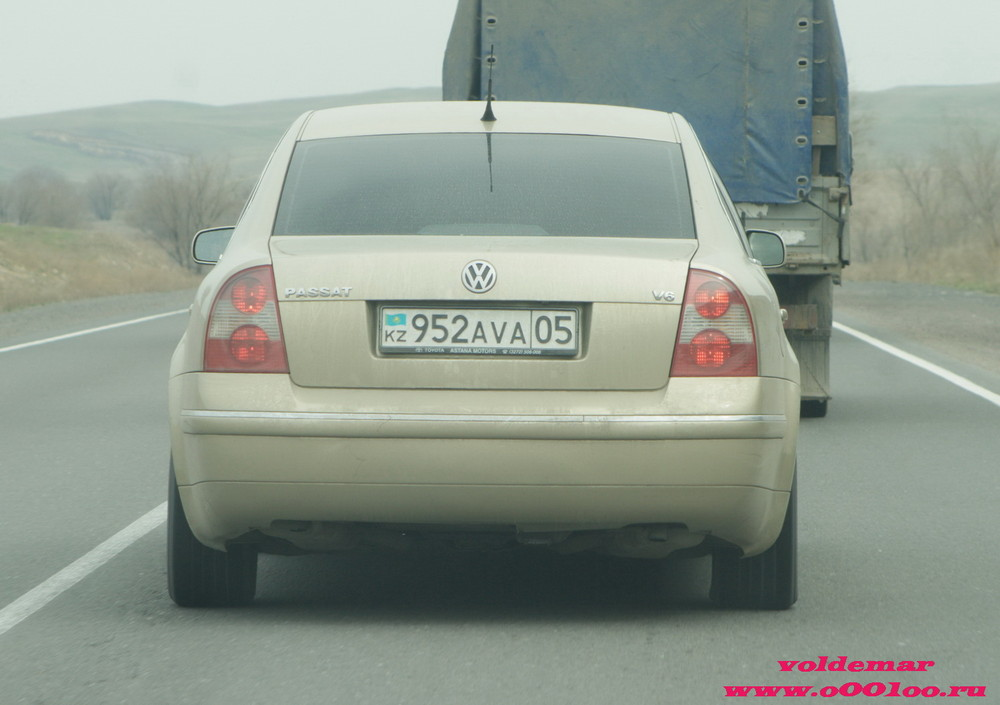license_plate: (381, 304, 582, 359)
